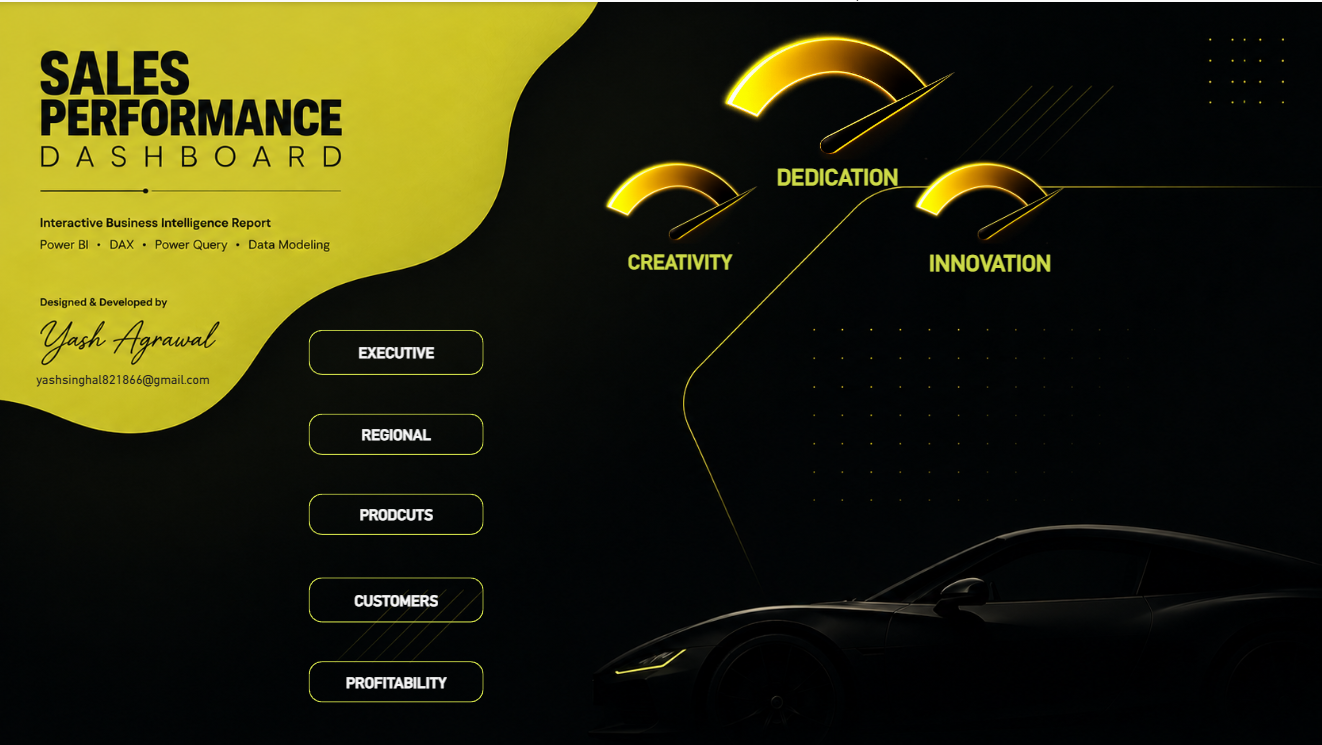

What the dashboard file says about the page in this screenshot:
{"tool":"powerbi","page":{"name":"Cover Page","canvas":[1280,720],"ordinal":0},"visuals":[{"type":"image","box":[842.1,133.9,230.4,98.9],"z":0},{"type":"image","box":[528.4,133.9,261.8,98.9],"z":1000},{"type":"textbox","box":[733.5,152,155.6,43.4],"z":2000},{"type":"textbox","box":[581.5,235.3,155.6,43.4],"z":3000},{"type":"textbox","box":[880.7,235.3,155.6,43.4],"z":4000},{"type":"image","box":[655.1,0,311.3,152],"z":5000},{"type":"actionButton","box":[272.7,307.6,187,61.5],"z":6000},{"type":"actionButton","box":[272.7,388.5,187,57.9],"z":7000},{"type":"actionButton","box":[272.7,465.7,187,57.9],"z":8000},{"type":"actionButton","box":[272.7,544.1,187,61.5],"z":9000},{"type":"actionButton","box":[272.7,620.1,187,57.9],"z":10000},{"type":"textbox","box":[32.6,349.9,187,38.6],"z":11000}]}

Visuals, with their boxes in screenshot pixels (x1, y1, x2, y2), scaled from the page's 1280x720 canvas onto the 1322x745 screenshot:
image: <box>870,139,1108,241</box>
image: <box>546,139,816,241</box>
textbox: <box>758,157,918,202</box>
textbox: <box>601,243,761,288</box>
textbox: <box>910,243,1070,288</box>
image: <box>677,0,998,157</box>
actionButton: <box>282,318,475,382</box>
actionButton: <box>282,402,475,462</box>
actionButton: <box>282,482,475,542</box>
actionButton: <box>282,563,475,627</box>
actionButton: <box>282,642,475,702</box>
textbox: <box>34,362,227,402</box>
